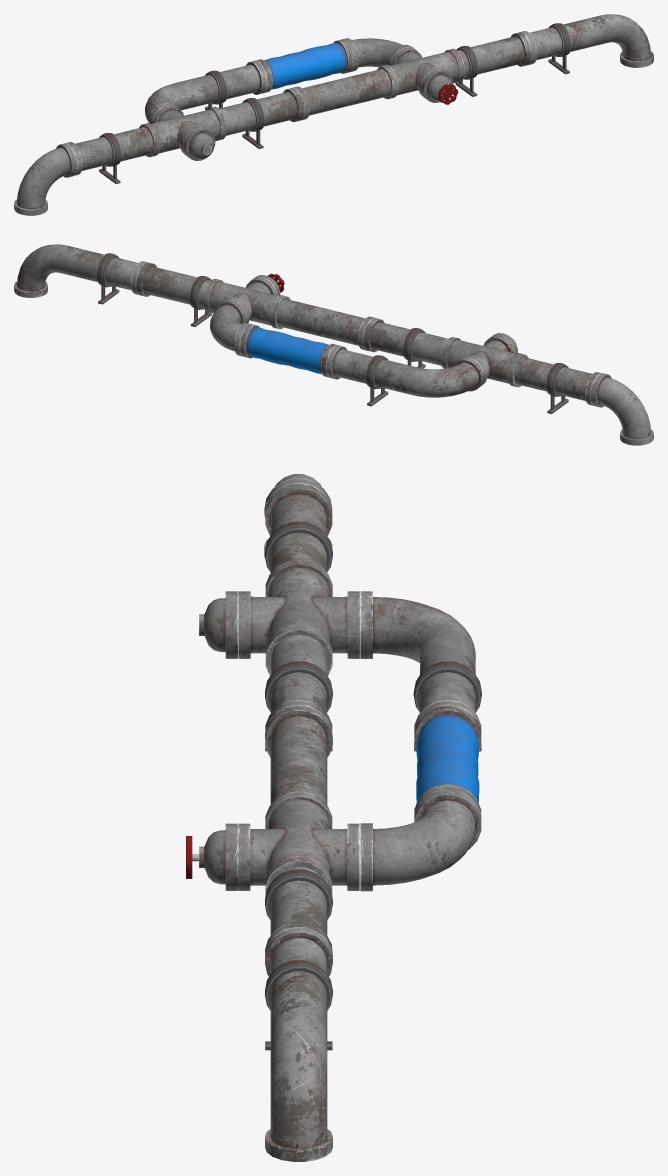
The model's file is old_industrial_pipe_pack_pbr.glb.
3 views of the same model, one above another, from view 1: azimuth 30°, elevation 25°; view 2: azimuth 150°, elevation 25°; view 3: azimuth 270°, elevation 25° (orthographic). The views are drawn at different scales.
Visible parts, largest first — view 1: Pipe_2m.002, Pipe_2m, Pipe_90_degree_1.002, Pipe_90_degree_1, Pipe_shielded, Pipe_90_degree_2.002, Pipe_90_split, Pipe_90_split.002, Pipe_90_degree_2, Pipe_cap, Pipe_cap.002, Pipe_bracket.002 (+5 smaller); view 2: Pipe_2m.002, Pipe_90_degree_1, Pipe_2m, Pipe_90_degree_1.002, Pipe_shielded, Pipe_90_degree_2.002, Pipe_90_split.002, Pipe_90_split, Pipe_90_degree_2, Pipe_bracket, Pipe_bracket.005, Pipe_bracket.004 (+2 smaller); view 3: Pipe_90_degree_1.002, Pipe_90_split, Pipe_90_split.002, Pipe_90_degree_1, Pipe_2m.002, Pipe_90_degree_2, Pipe_2m, Pipe_shielded, Pipe_cap.002, Pipe_cap, Pipe_bracket.004, Pipe_bracket (+3 smaller).
Part boxes in pixels (<box>): Pipe_2m.002: <box>293,32,531,120</box>; Pipe_2m: <box>66,88,304,175</box>; Pipe_90_degree_1.002: <box>519,14,653,67</box>; Pipe_90_degree_1: <box>145,60,267,123</box>; Pipe_shielded: <box>256,39,353,92</box>; Pipe_90_degree_2.002: <box>14,143,77,215</box>; Pipe_90_split: <box>139,105,226,157</box>; Pipe_90_split.002: <box>377,47,464,99</box>; Pipe_90_degree_2: <box>343,38,413,71</box>; Pipe_cap: <box>183,127,215,160</box>; Pipe_cap.002: <box>421,69,453,102</box>; Pipe_bracket.002: <box>242,98,264,148</box>; Pipe_2m.002: <box>136,262,374,350</box>; Pipe_90_degree_1: <box>326,345,484,397</box>; Pipe_2m: <box>363,318,601,405</box>; Pipe_90_degree_1.002: <box>14,244,147,297</box>; Pipe_shielded: <box>240,324,336,377</box>; Pipe_90_degree_2.002: <box>590,373,653,445</box>; Pipe_90_split.002: <box>203,277,290,329</box>; Pipe_90_split: <box>441,335,528,387</box>; Pipe_90_degree_2: <box>210,299,250,356</box>; Pipe_bracket: <box>365,355,388,406</box>; Pipe_bracket.005: <box>546,363,568,413</box>; Pipe_bracket.004: <box>96,253,119,304</box>; Pipe_90_degree_1.002: <box>265,927,332,1161</box>; Pipe_90_split: <box>238,559,359,676</box>; Pipe_90_split.002: <box>237,791,359,896</box>; Pipe_90_degree_1: <box>360,591,481,729</box>; Pipe_2m.002: <box>265,705,332,956</box>; Pipe_90_degree_2: <box>360,789,481,891</box>; Pipe_2m: <box>265,483,332,731</box>; Pipe_shielded: <box>414,705,481,814</box>; Pipe_cap.002: <box>199,823,237,890</box>; Pipe_cap: <box>199,591,237,658</box>; Pipe_bracket.004: <box>265,959,332,1050</box>; Pipe_bracket: <box>413,661,481,751</box>.
Size of the model in its own units: 587 by 48.63 by 118.
1 material, 1 textured.
